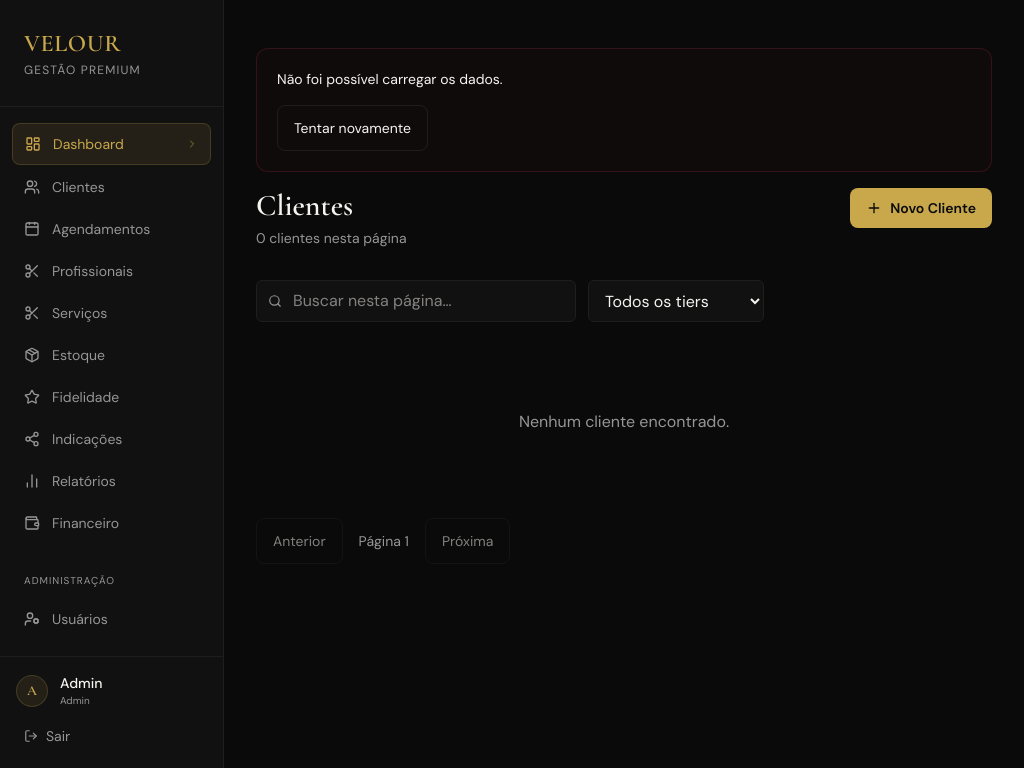
Test: lista de clientes encerra carregamento após falha e permite repetir a consulta
Step 1. Click the button "Tentar novamente" → (352, 128), box [277,105,428,151]
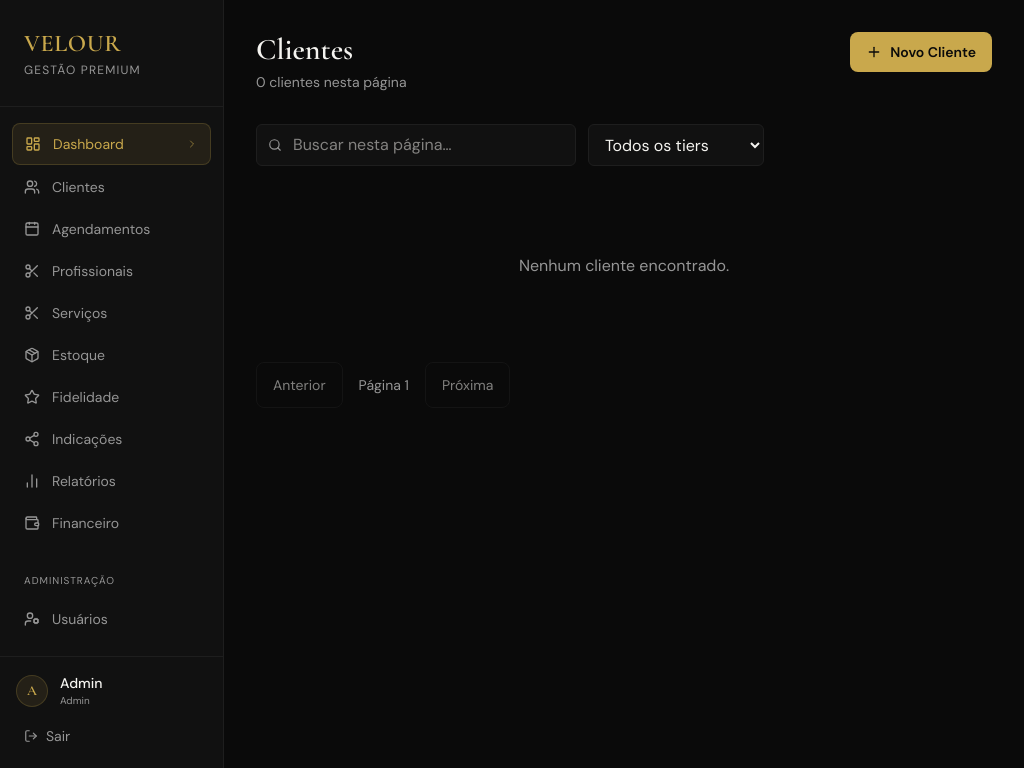
expect the message "Não foi possível carregar os dados. Tentar novamente" is gone: met
